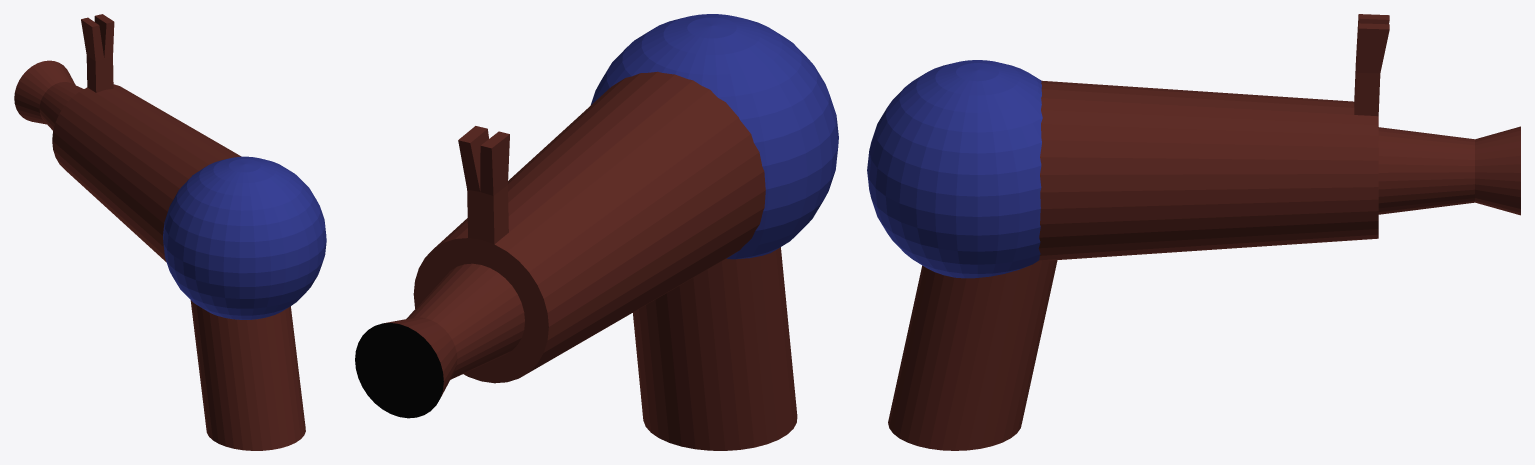
File: gun.fbx
3 views of the same model, side by side, from view 1: azimuth 30°, elevation 25°; view 2: azimuth 150°, elevation 25°; view 3: azimuth 270°, elevation 25° (orthographic). The views are drawn at different scales.
Parts seen in each view (by area): view 1: gun; view 2: gun; view 3: gun.
Boxes of the visible parts, <box> form: gun: <box>14,14,326,450</box>; gun: <box>355,14,838,450</box>; gun: <box>867,14,1520,450</box>.
Bounding box in the file's own units: 39.11 × 26.35 × 13.22.
